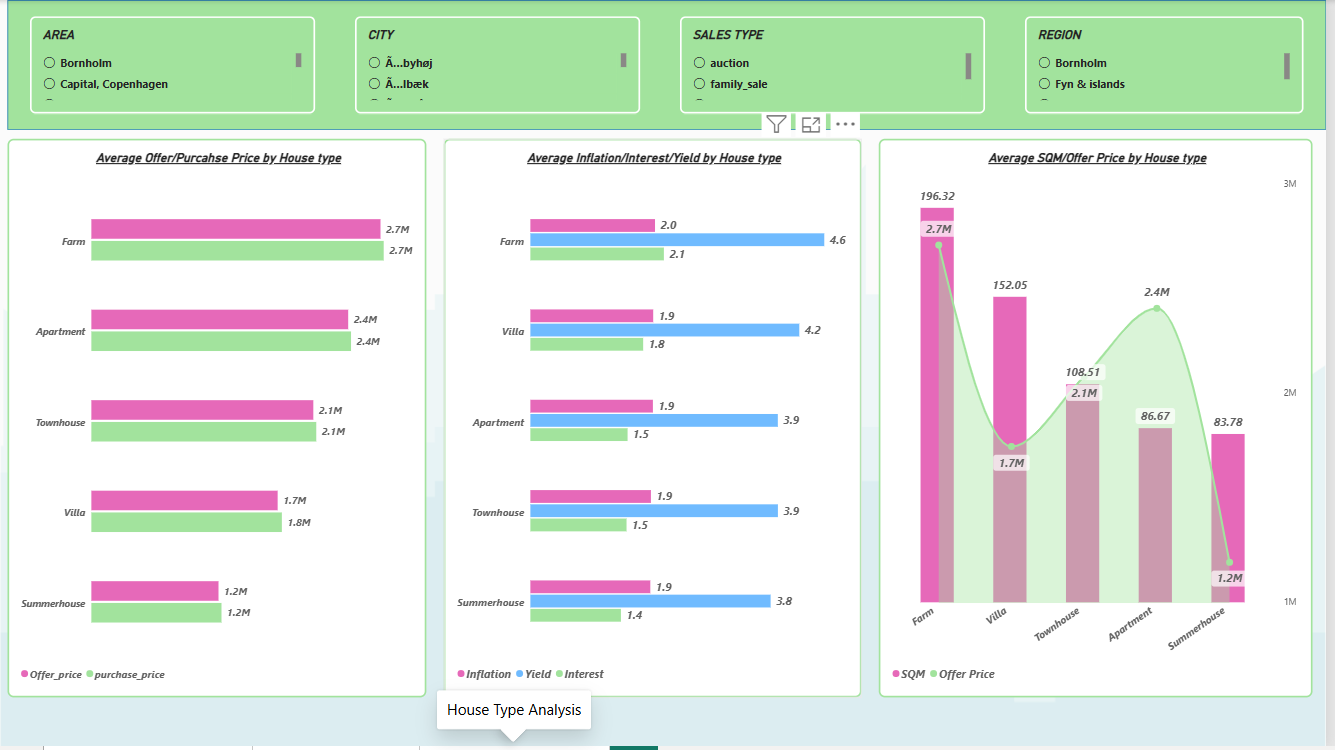

The page's visual inventory and layout, read from the dashboard file:
{"tool":"powerbi","page":{"name":"House Type Analysis","canvas":[1920,1080],"ordinal":2},"visuals":[{"type":"shape","box":[10.9,0,1909.2,188.2],"z":0},{"type":"clusteredBarChart","title":"Average Offer/Purcahse Price by House type","fields":{"Category":["Housing.house_type"],"Y":["Avg(Housing.Offer_price)","Avg(Housing.purchase_price)"]},"box":[10.9,200.9,606.2,808.9],"z":1000},{"type":"clusteredBarChart","title":"Average Inflation/Interest/Yield by House type","fields":{"Category":["Housing.house_type"],"Y":["Avg(Housing.dk_ann_infl_rate%)","Avg(Housing.yield_on_mortgage_credit_bonds%)","Avg(Housing.nom_interest_rate%)"]},"box":[642.4,200.9,604.4,808.9],"z":2000},{"type":"lineStackedColumnComboChart","title":"Average SQM/Offer Price by House type","fields":{"Category":["Housing.house_type"],"Y":["Avg(Housing.sqm)"],"Y2":["Avg(Housing.Offer_price)"]},"box":[1272.2,200.9,628,808.9],"z":3000},{"type":"listSlicer","title":"AREA","fields":{"Values":["Housing.area"]},"box":[43.4,23.5,412.6,141.2],"z":4000},{"type":"listSlicer","title":"CITY","fields":{"Values":["Housing.city"]},"box":[513.9,23.5,412.6,141.2],"z":4001},{"type":"listSlicer","title":"SALES TYPE","fields":{"Values":["Housing.sales_type"]},"box":[984.5,23.5,441.6,141.2],"z":4002},{"type":"listSlicer","title":"REGION","fields":{"Values":["Housing.region"]},"box":[1483.9,23.5,403.6,141.2],"z":4003}]}

Visuals, with their boxes in screenshot pixels (x1, y1, x2, y2), scaled from the page's 1920x1080 canvas onto the 1335x750 screenshot:
shape: detection(8, 0, 1334, 131)
"Average Offer/Purcahse Price by House type" clusteredBarChart: detection(8, 140, 429, 701)
"Average Inflation/Interest/Yield by House type" clusteredBarChart: detection(447, 140, 867, 701)
"Average SQM/Offer Price by House type" lineStackedColumnComboChart: detection(885, 140, 1321, 701)
"AREA" listSlicer: detection(30, 16, 317, 114)
"CITY" listSlicer: detection(357, 16, 644, 114)
"SALES TYPE" listSlicer: detection(685, 16, 992, 114)
"REGION" listSlicer: detection(1032, 16, 1312, 114)
